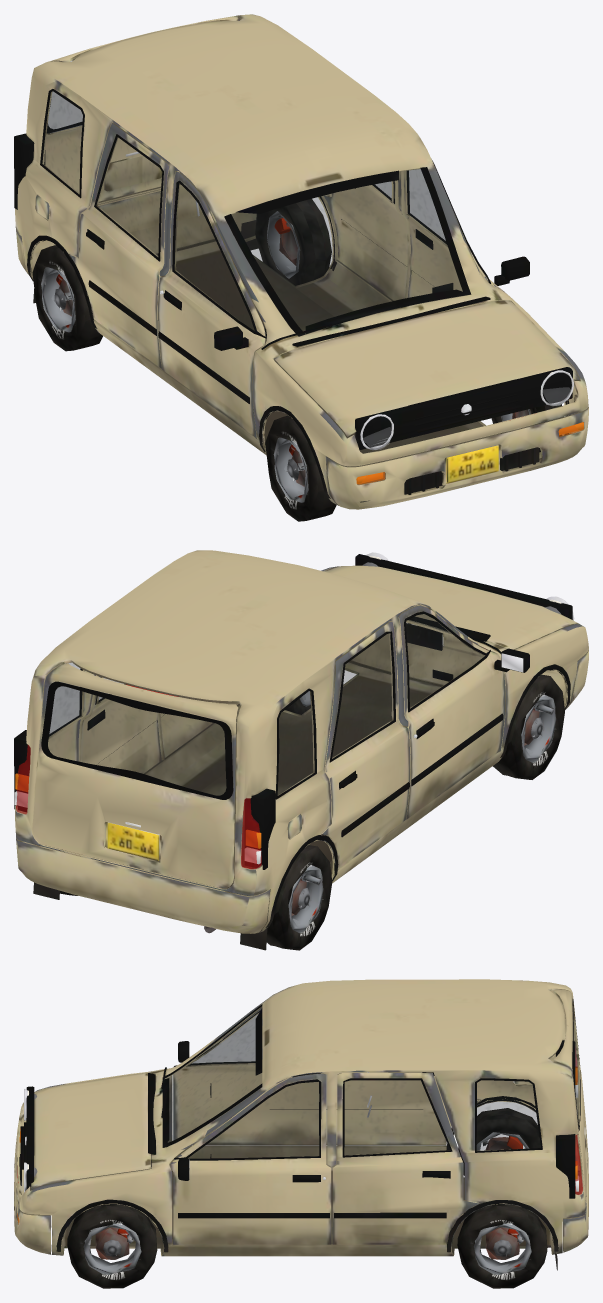
The model's file is mame_lod1.glb.
3 renders of one model, top to bottom at view 1: azimuth 30°, elevation 25°; view 2: azimuth 150°, elevation 25°; view 3: azimuth 270°, elevation 25°, orthographic. The views are drawn at different scales.
Parts seen in each view (by area): view 1: Body, Wheel_RL, Wheel_FR, Wheel_RR; view 2: Body, Wheel_RR, Wheel_FR; view 3: Body, Wheel_FL, Wheel_RL, Wheel_RR.
Boxes of the visible parts, x1,y1,x2,y2 form: Body: (14, 14, 588, 509); Wheel_RL: (255, 198, 331, 285); Wheel_FR: (265, 415, 336, 521); Wheel_RR: (32, 245, 102, 351); Body: (14, 550, 588, 950); Wheel_RR: (266, 845, 332, 950); Wheel_FR: (493, 674, 564, 779); Body: (14, 979, 588, 1270); Wheel_FL: (67, 1204, 157, 1288); Wheel_RL: (457, 1204, 547, 1288); Wheel_RR: (458, 1108, 540, 1175).
Size of what is drawn, in the model's own units: 1.8 by 1.46 by 3.43.
Materials: 2 (2 with a texture image).
